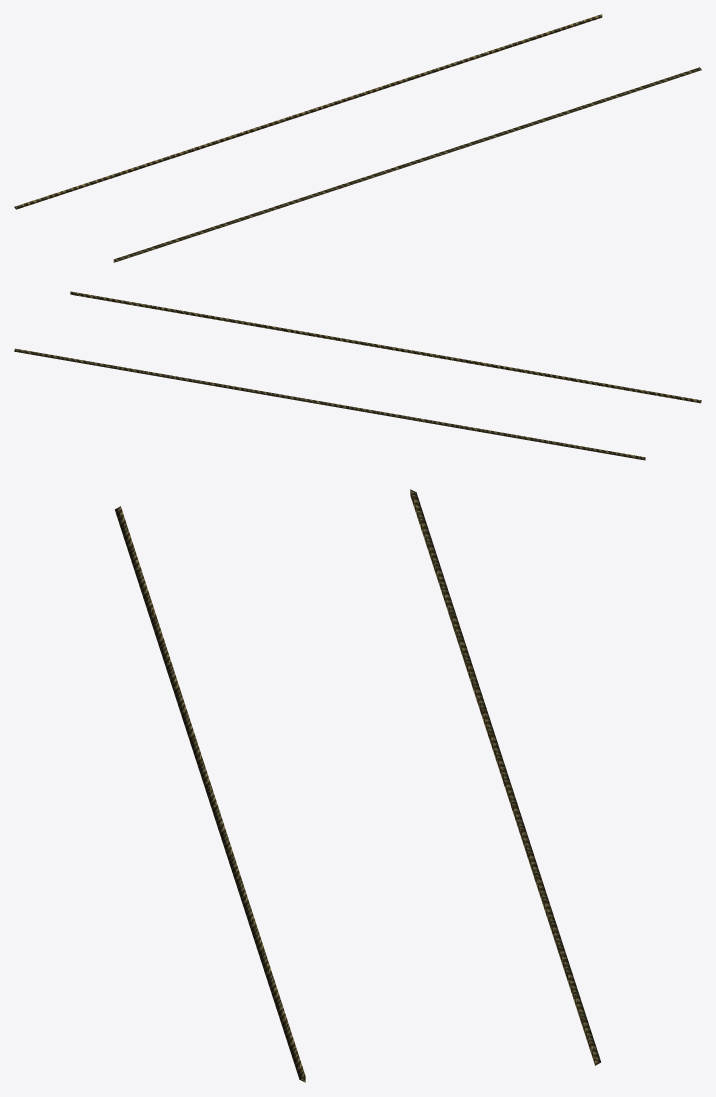
The model's file is SWORDLIGHT20_ROPE3.fbx.
The picture shows the model from 3 angles, top to bottom: view 1: azimuth 30°, elevation 25°; view 2: azimuth 150°, elevation 25°; view 3: azimuth 270°, elevation 25°; orthographic projection. The views are drawn at different scales.
Visible parts, largest first — view 1: SWORDLIGHT20_ROPE3; view 2: SWORDLIGHT20_ROPE3; view 3: SWORDLIGHT20_ROPE3.
Boxes of the visible parts, box(x1,y1,x2,y2) form: SWORDLIGHT20_ROPE3: box(14, 14, 701, 262); SWORDLIGHT20_ROPE3: box(14, 291, 701, 460); SWORDLIGHT20_ROPE3: box(115, 489, 600, 1082).
Bounding box in the file's own units: 122533 × 633 × 42881.
Materials: 1 (1 with a texture image).
